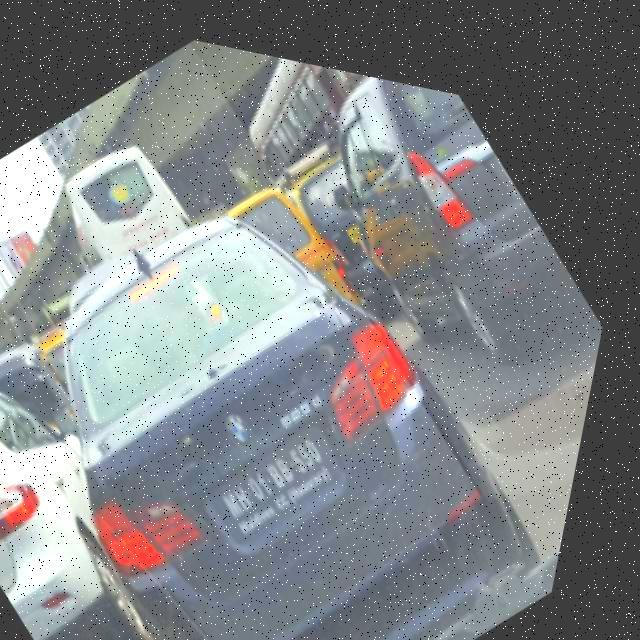license_plate: (209, 390, 374, 555)
